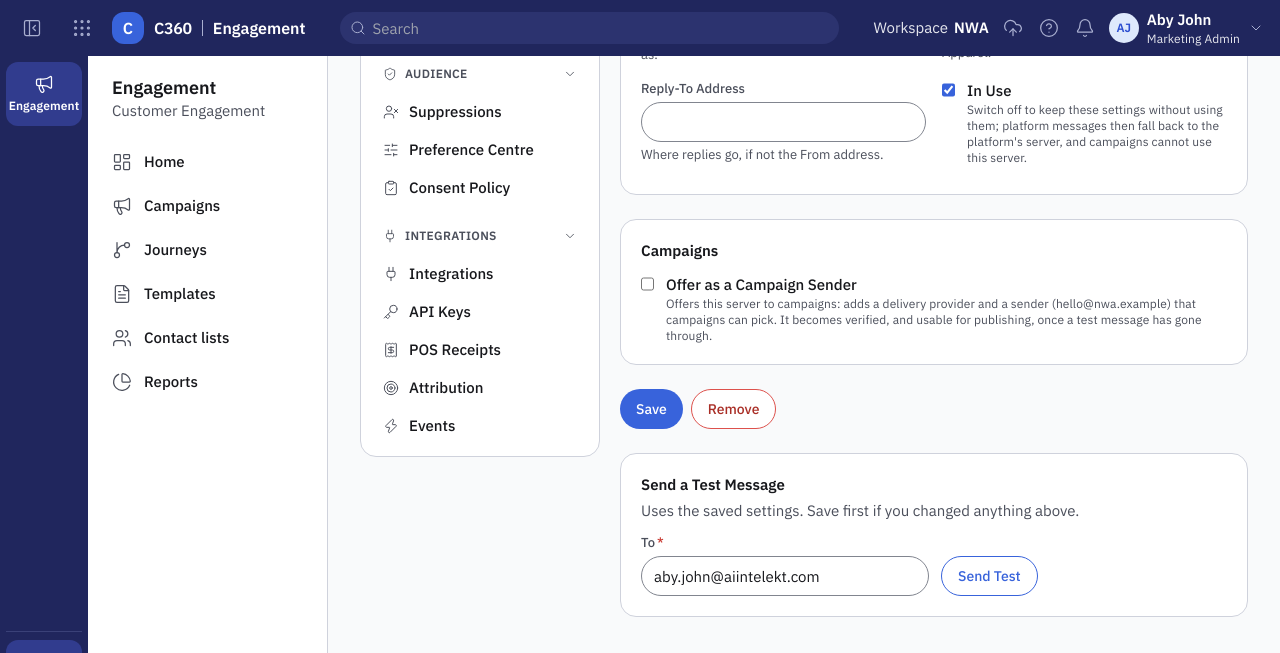
Test: a failed test shows the reason; a field error lands on its field
(page scrolled)
Click the button "Send Test" at {"x": 989, "y": 576}, box x1=941 y1=556 x2=1038 y2=596
(page scrolled)
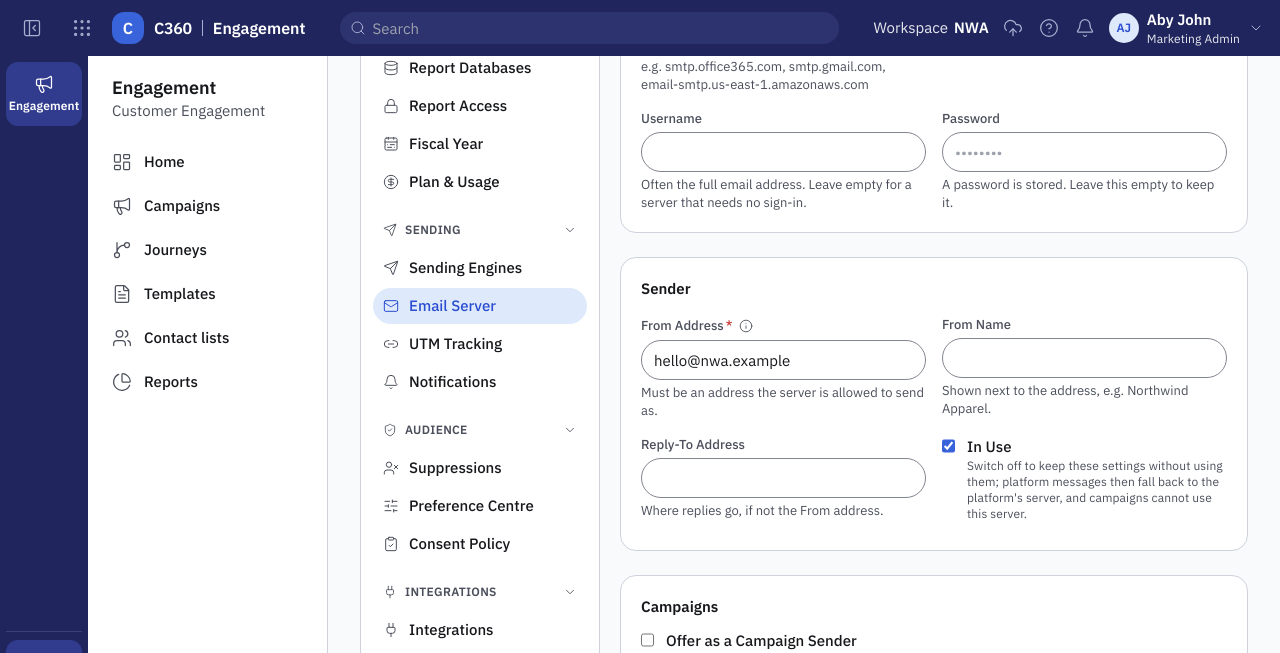
Replace the text in the field labelled "From Address*" with "bad" at {"x": 784, "y": 360}, box x1=641 y1=340 x2=926 y2=380
(page scrolled)
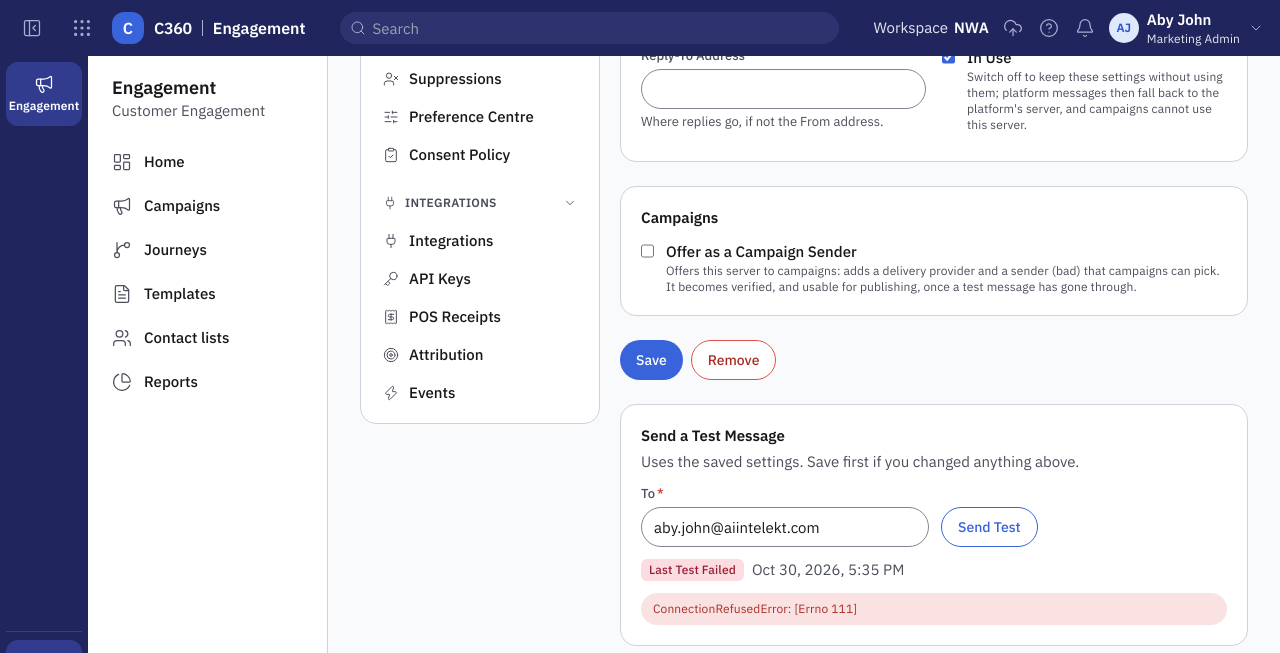
Click the button "Save" at {"x": 651, "y": 360}, box x1=620 y1=340 x2=683 y2=380
(page scrolled)
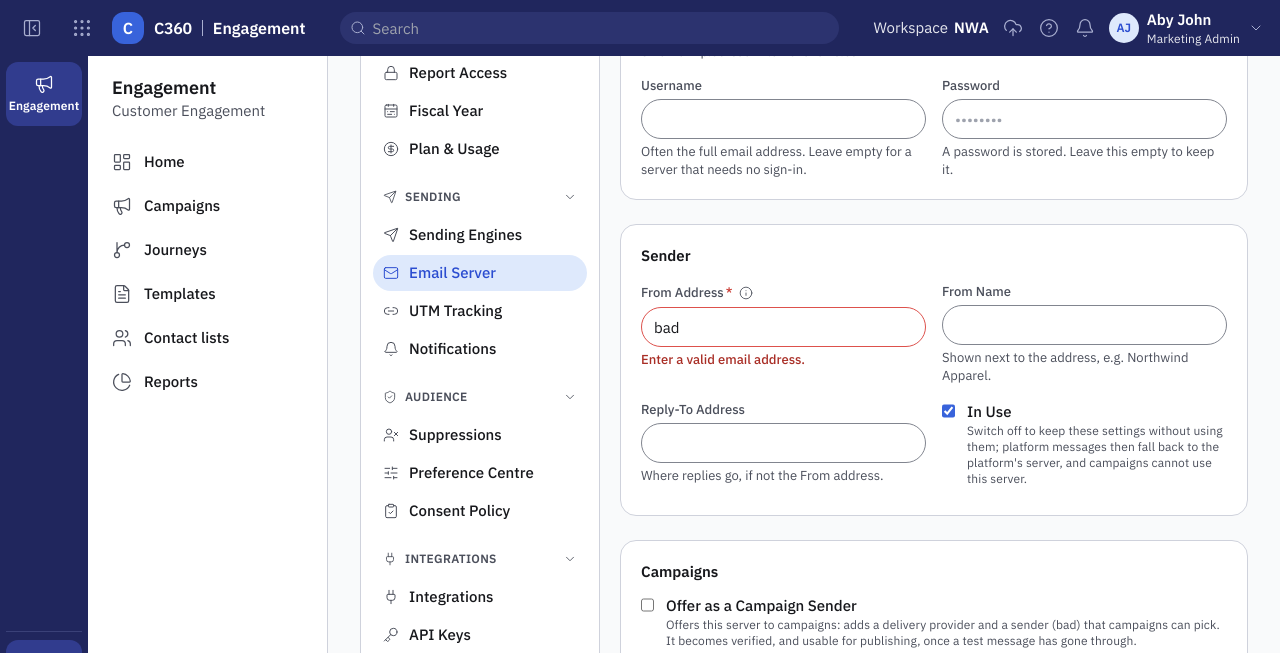
Expected: the text "Enter a valid email address." is shown, x1=641 y1=351 x2=805 y2=368
